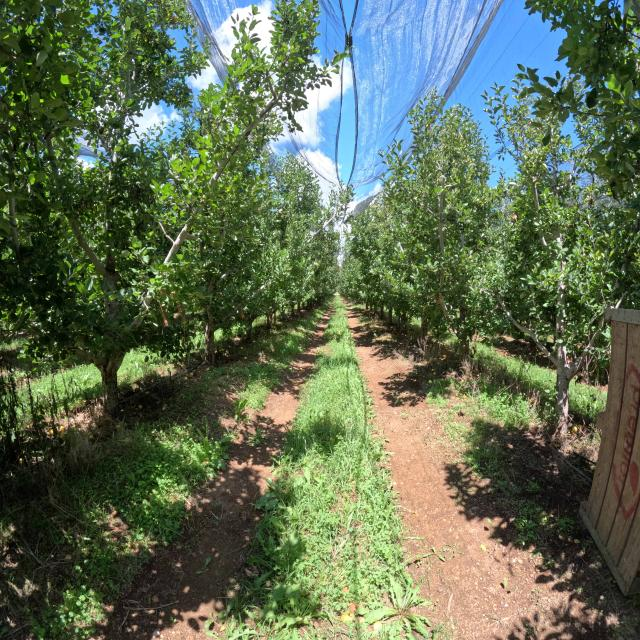-FireBlight-: (241, 312, 244, 318)
